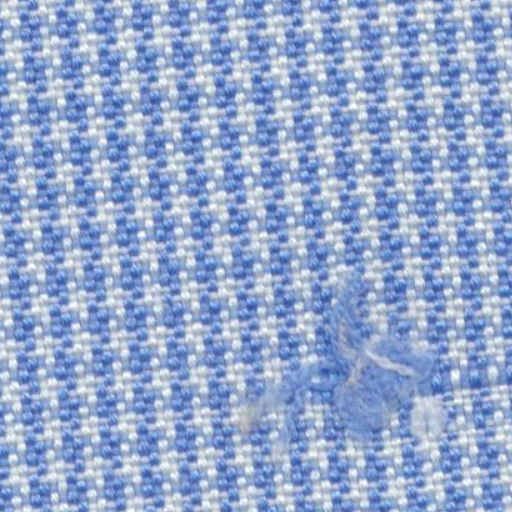MianQiu: (318, 316, 433, 423)
